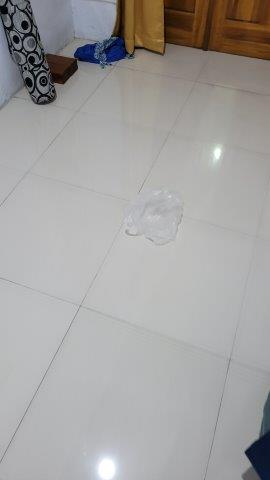plastik: (121, 183, 183, 247)
